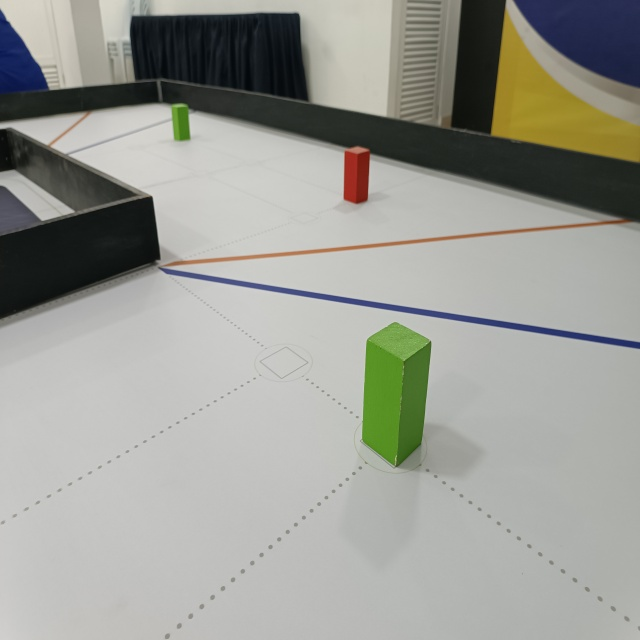blue line: (154, 272, 640, 352), (64, 106, 197, 155)
green rectangular prism: (358, 319, 433, 465), (169, 99, 194, 145)
orange line: (155, 212, 635, 267), (47, 104, 94, 150)
red rectangular prism: (342, 145, 371, 205)
